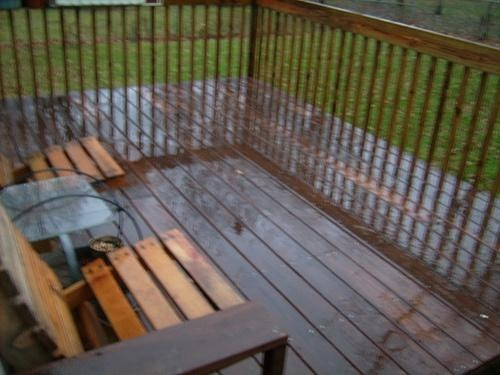chair: (1, 206, 291, 375), (1, 135, 126, 185)
